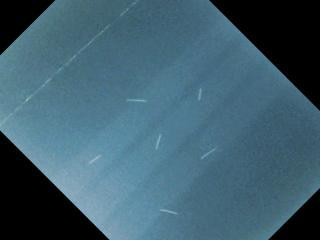crack: (0, 0, 136, 127)
scratch: (79, 134, 120, 168), (155, 205, 187, 227), (181, 85, 208, 108), (197, 137, 220, 160), (149, 129, 166, 154), (119, 95, 154, 106)
